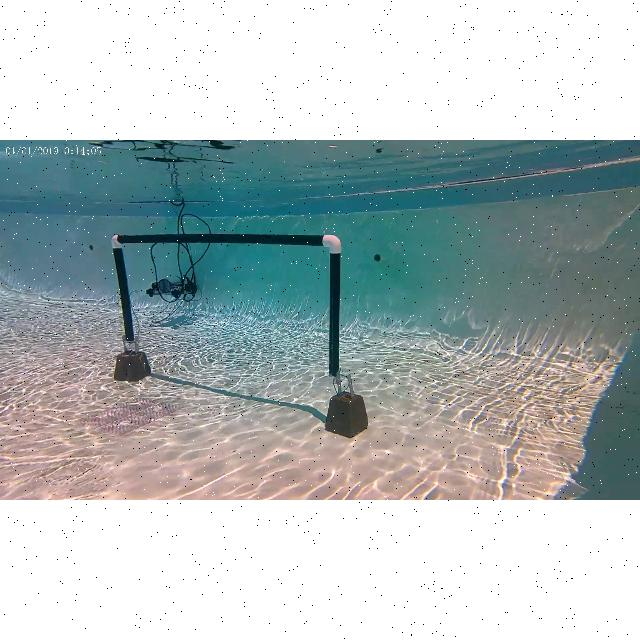prequal gate: (112, 234, 340, 380)
prequal gate leg l: (108, 230, 140, 350)
prequal gate leg r: (317, 230, 349, 384)
